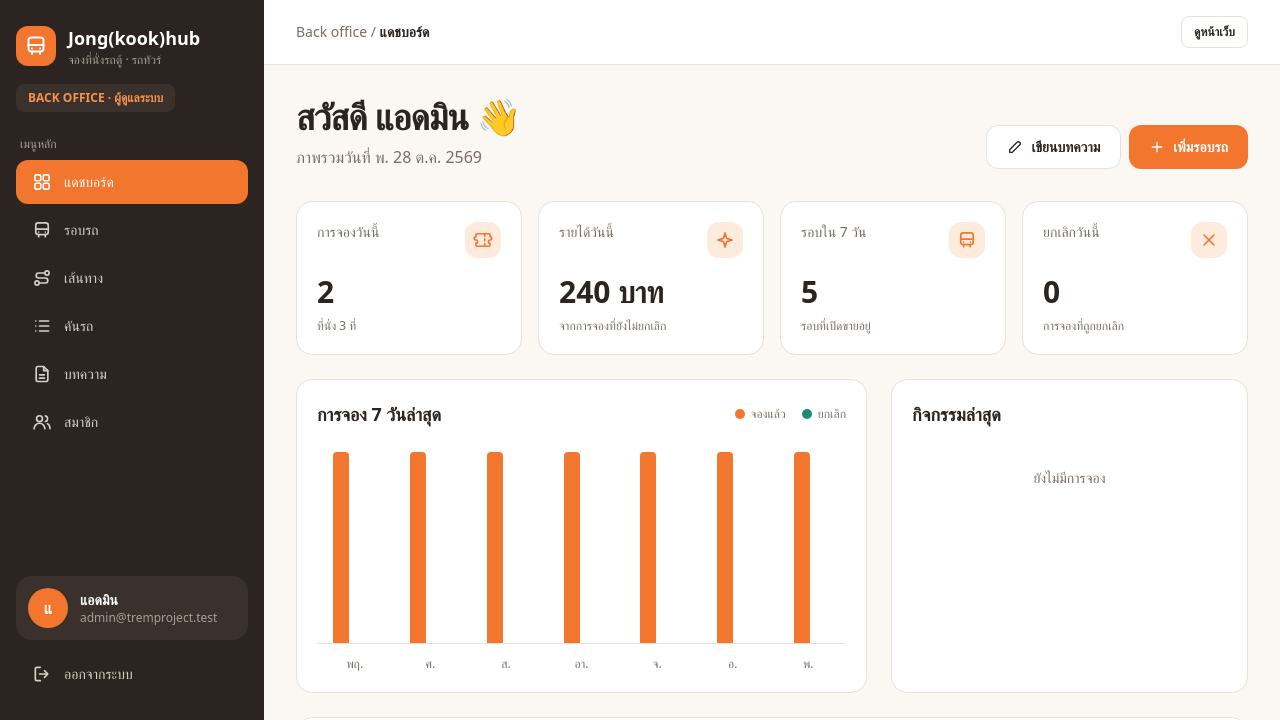
Test case: admin: เข้า /admin เฉย ๆ เจอแดชบอร์ด และสลับไปเมนูสมาชิกได้
expect the heading "สวัสดี แอดมิน 👋" is shown: met, box [296, 97, 521, 137]
expect the text "240 บาท" is shown: met, box [559, 271, 664, 312]
What coordinates should you click on to do the following:
click the link "สมาชิก"
I would click on:
 (65, 422)
Its box is [32, 412, 98, 432].
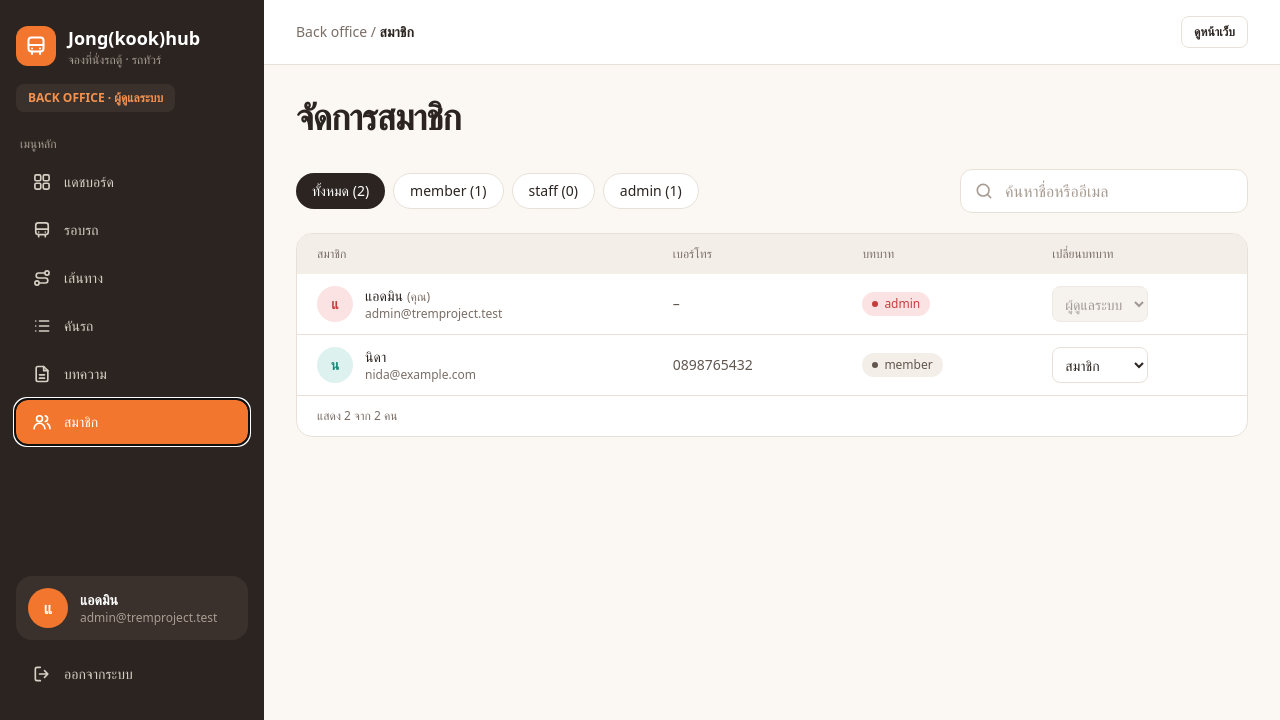
expect the heading "จัดการสมาชิก" is shown: met, box [296, 97, 460, 137]
